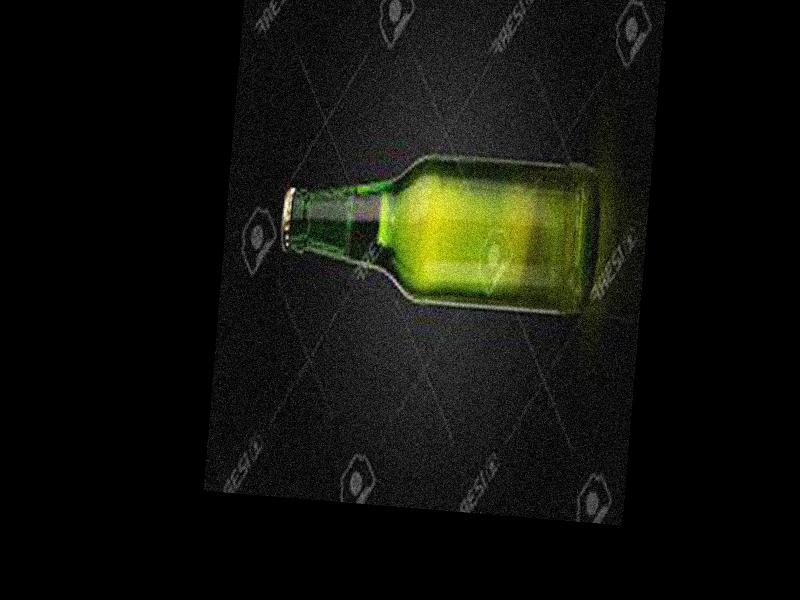Beer: (275, 144, 601, 320)
